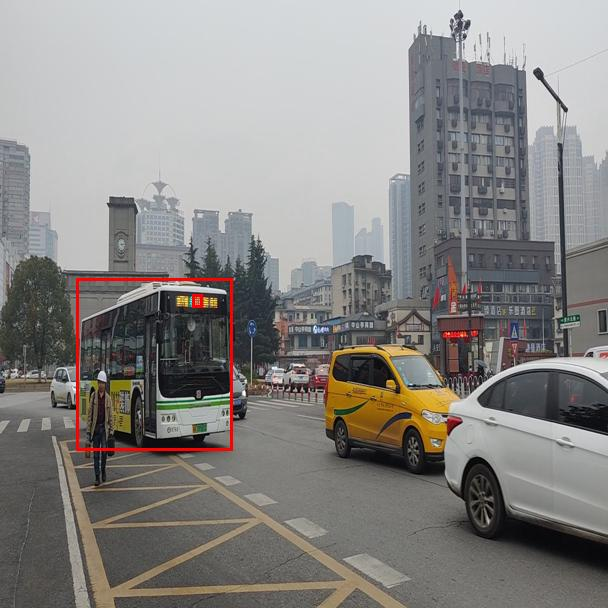bus: (76, 278, 232, 450)
screen: (192, 294, 202, 307)
